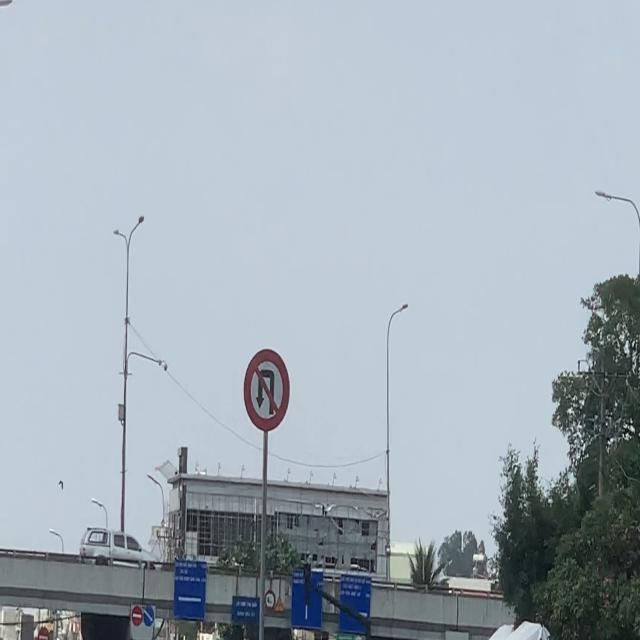Cam nguoc chieu: (131, 605, 143, 627), (35, 625, 49, 640)
Cam quay dau xe: (244, 348, 293, 435)
Chieu cao toi da: (266, 587, 276, 612)
Hieu lenh: (143, 605, 155, 628)
